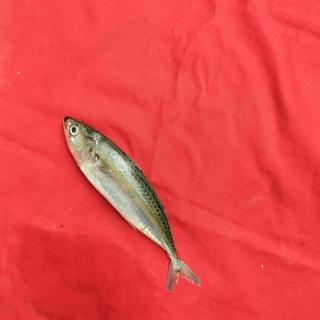Ikan: (48, 109, 205, 301)
